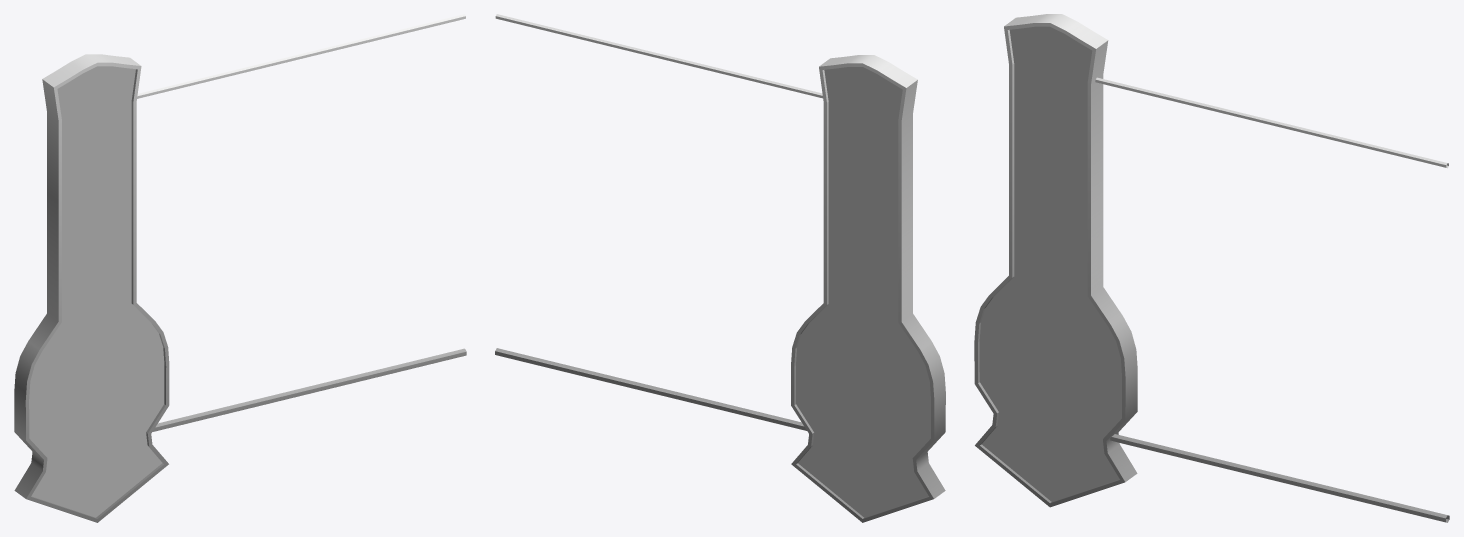
The model's file is SM_HangingSign_HatShop.fbx.
The picture shows the model from 3 angles, left to right: view 1: azimuth 30°, elevation 25°; view 2: azimuth 150°, elevation 25°; view 3: azimuth 330°, elevation 25°; orthographic projection. The views are drawn at different scales.
Visible parts, largest first — view 1: SM_HangingSign_HatShop; view 2: SM_HangingSign_HatShop; view 3: SM_HangingSign_HatShop.
Part boxes in pixels (left/top/right/bottom): SM_HangingSign_HatShop: left=14, top=14, right=466, bottom=522; SM_HangingSign_HatShop: left=495, top=14, right=945, bottom=522; SM_HangingSign_HatShop: left=974, top=14, right=1449, bottom=522.
Bounding box in the file's own units: 238 × 236 × 10.69.
